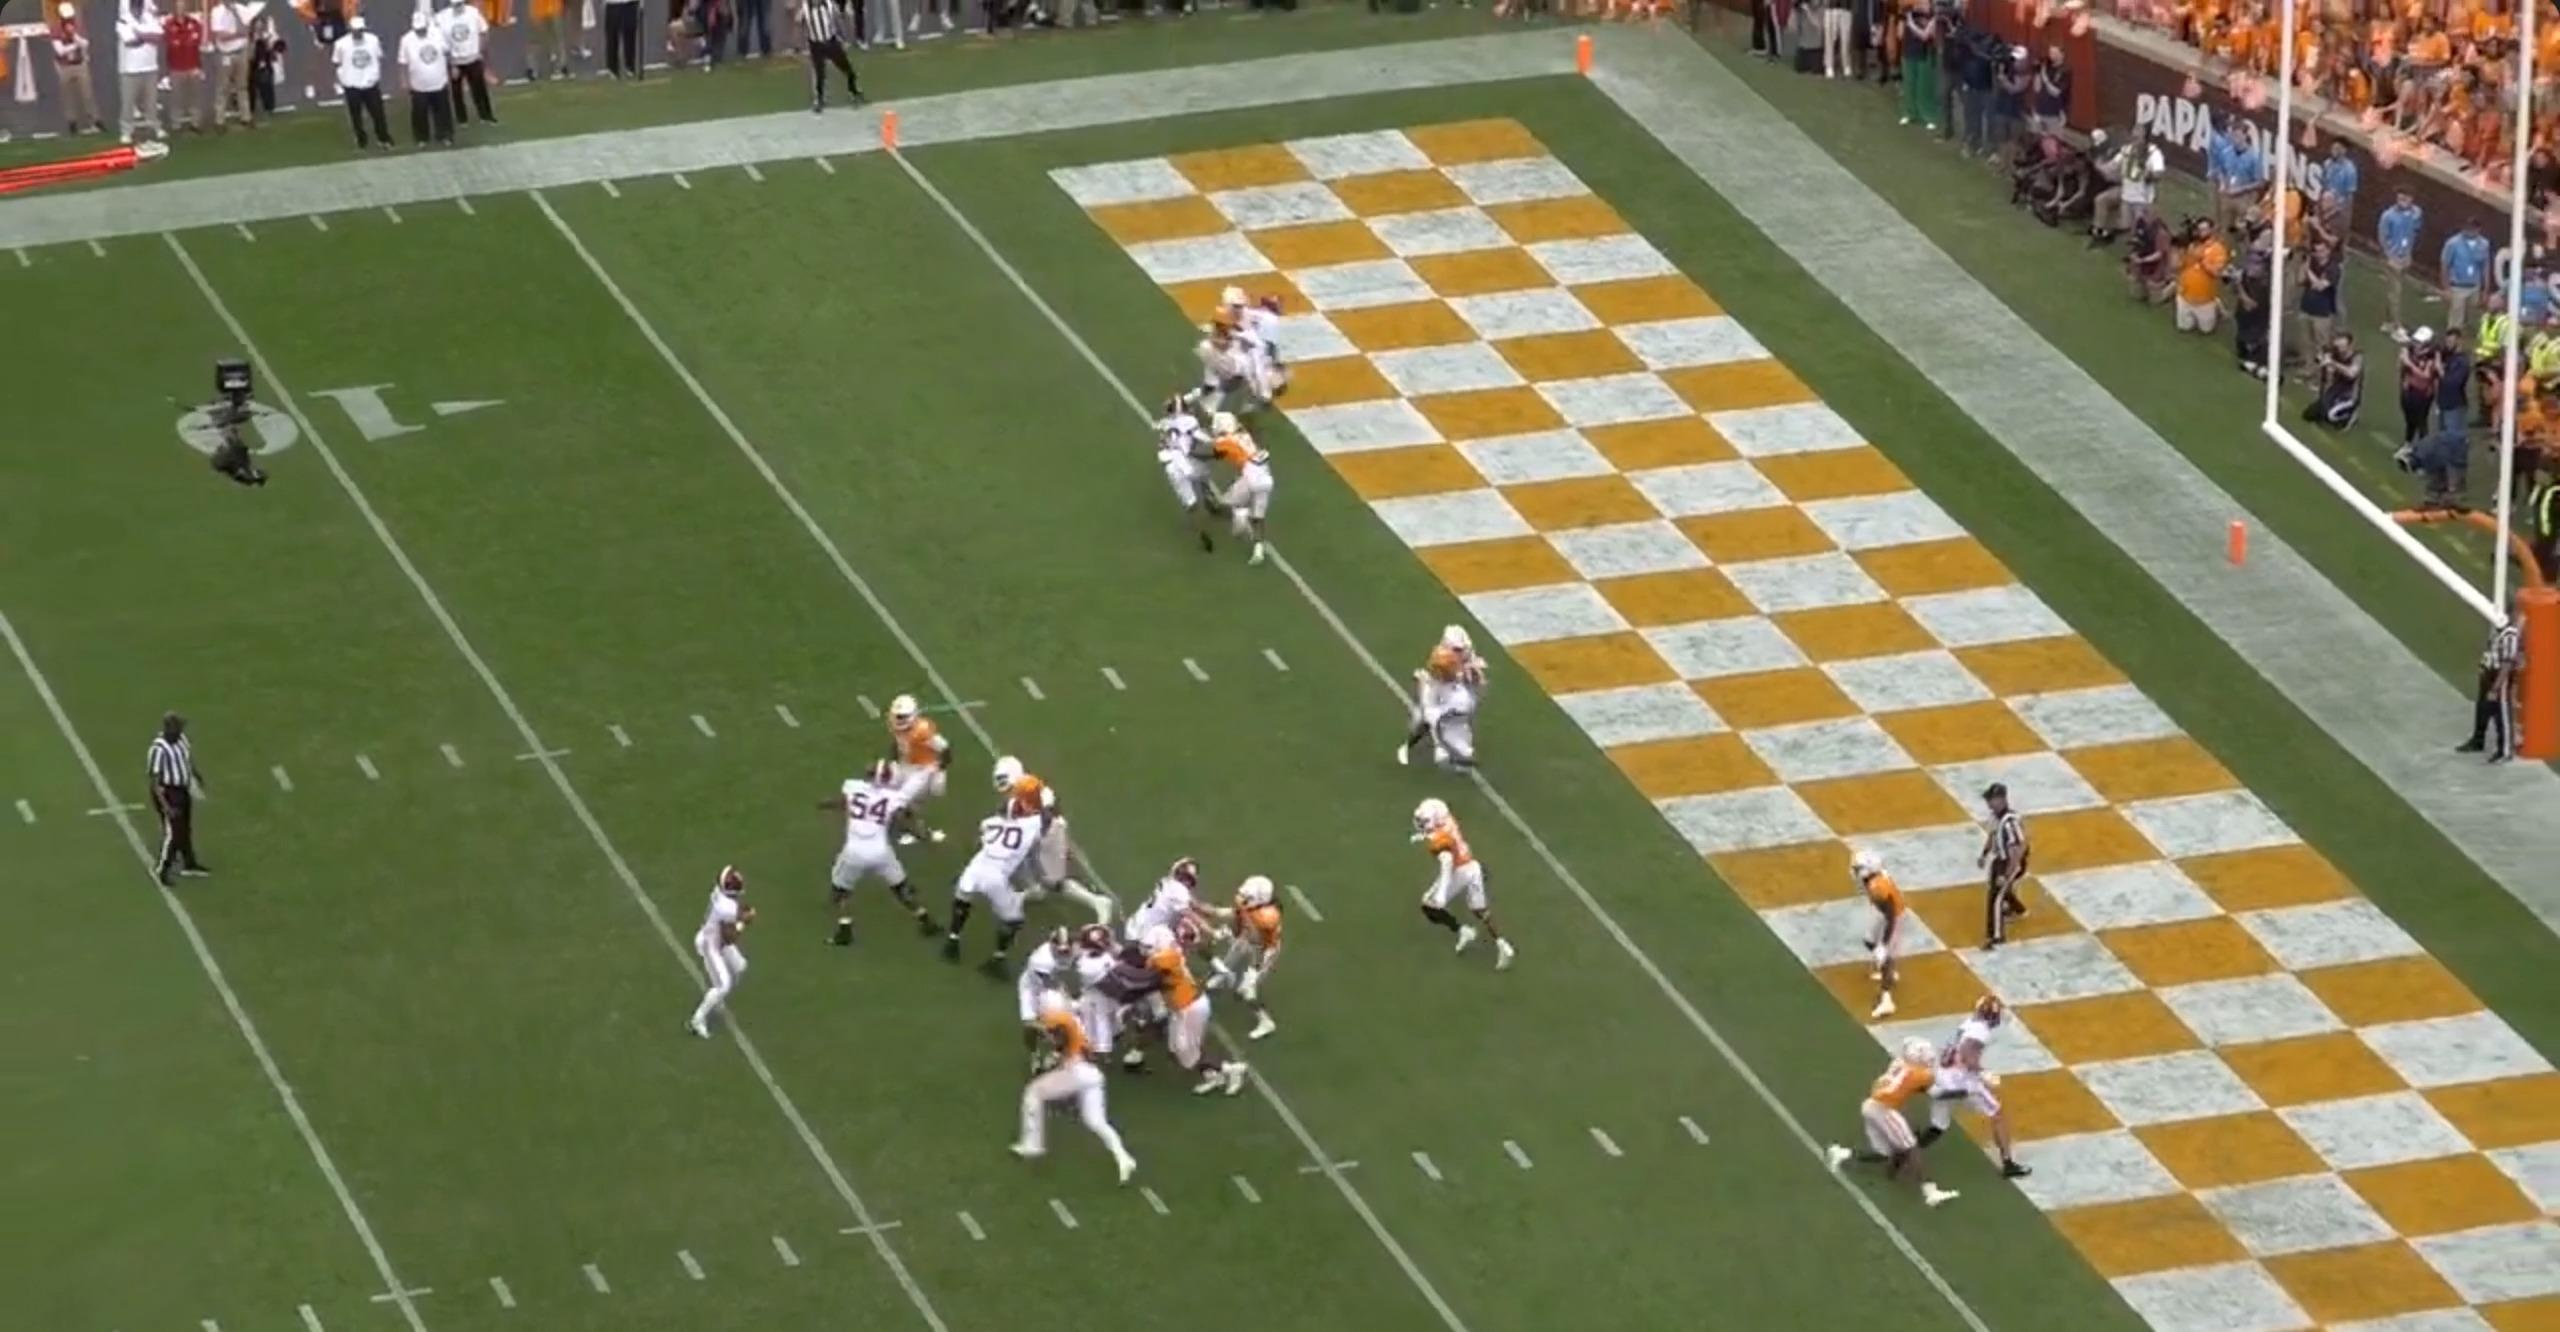defense: (1023, 993, 1155, 1188), (1109, 921, 1246, 1102), (982, 751, 1107, 922), (1414, 792, 1526, 971), (1830, 1032, 1952, 1195), (1221, 865, 1300, 1044), (1197, 418, 1280, 570), (1390, 621, 1475, 770), (884, 699, 965, 851), (1846, 833, 1903, 1034), (1187, 271, 1251, 420), (992, 755, 1070, 834)
oline: (814, 762, 945, 956), (941, 804, 1062, 977), (1070, 926, 1160, 1105), (1126, 848, 1202, 948), (1165, 919, 1216, 956)
qb: (687, 856, 765, 1048)
ref: (139, 711, 215, 900), (2441, 603, 2518, 773), (1957, 772, 2023, 958), (799, 5, 877, 124)
skill: (1922, 995, 2027, 1180), (1018, 926, 1092, 1071), (1156, 396, 1233, 526), (1229, 286, 1299, 423), (1436, 653, 1490, 779)
